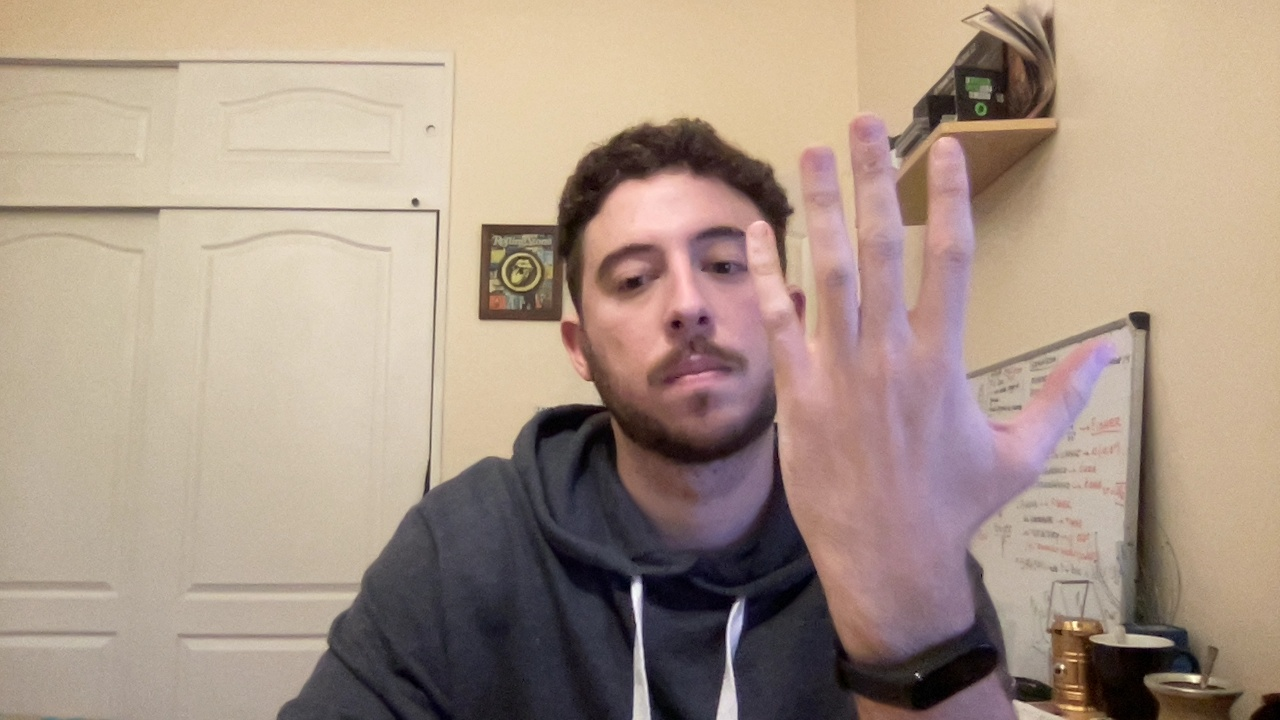abierto: (725, 104, 1126, 581)
